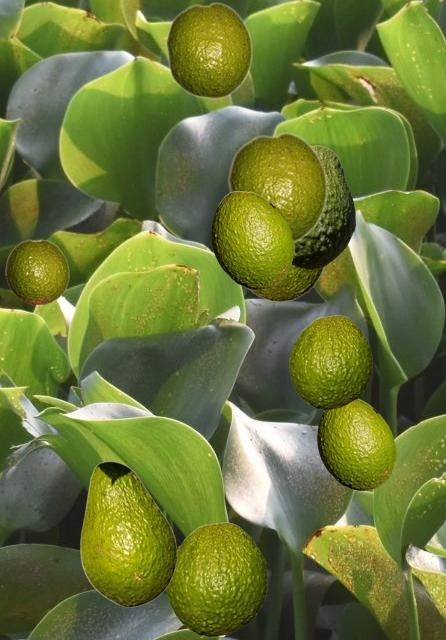avocado: (80, 461, 176, 606), (166, 522, 266, 635), (227, 131, 327, 244), (165, 1, 252, 99), (211, 191, 293, 288), (292, 145, 354, 268), (289, 315, 371, 408), (317, 398, 395, 489), (5, 239, 69, 304), (247, 266, 325, 301)
